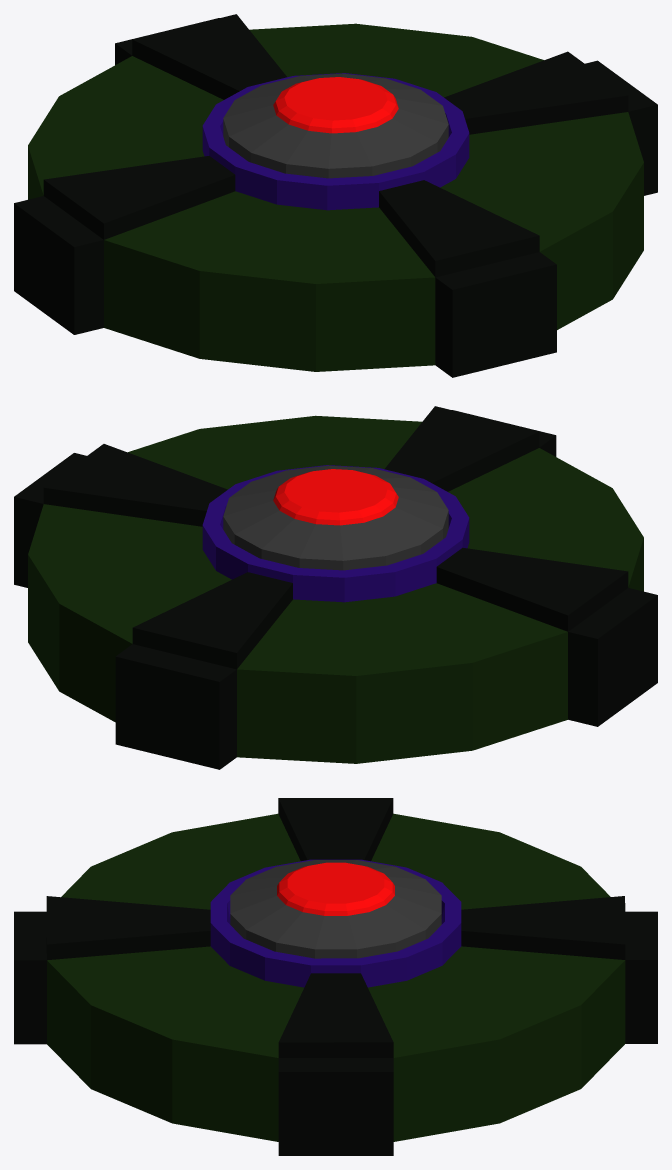
The model's file is MinaFase2.fbx.
The picture shows the model from 3 angles, top to bottom: view 1: azimuth 30°, elevation 25°; view 2: azimuth 150°, elevation 25°; view 3: azimuth 270°, elevation 25°; orthographic projection. The views are drawn at different scales.
Parts seen in each view (by area): view 1: Cylinder014; view 2: Cylinder014; view 3: Cylinder014.
Part boxes in pixels (x1,y1,x2,y2): Cylinder014: (14,14,657,377); Cylinder014: (14,406,657,769); Cylinder014: (14,798,657,1155).
Bounding box in the file's own units: 80.52 × 18.85 × 80.52.
